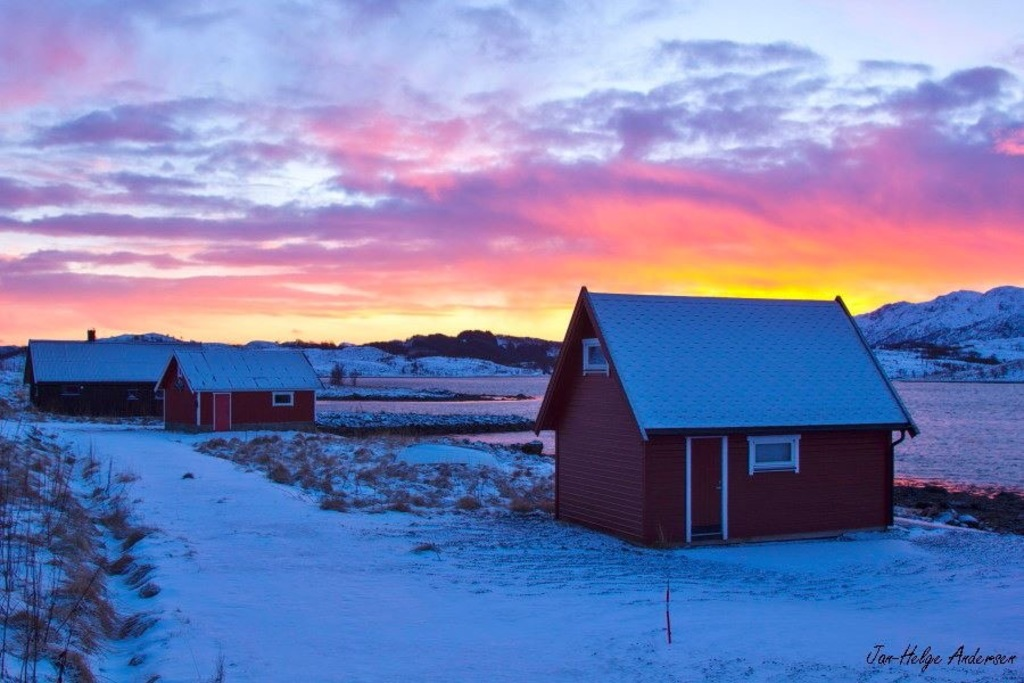Tree: (0, 341, 120, 681), (183, 428, 566, 529), (456, 325, 491, 365), (357, 332, 405, 356), (530, 339, 558, 376), (501, 340, 524, 371), (414, 332, 443, 355), (442, 328, 458, 358)
